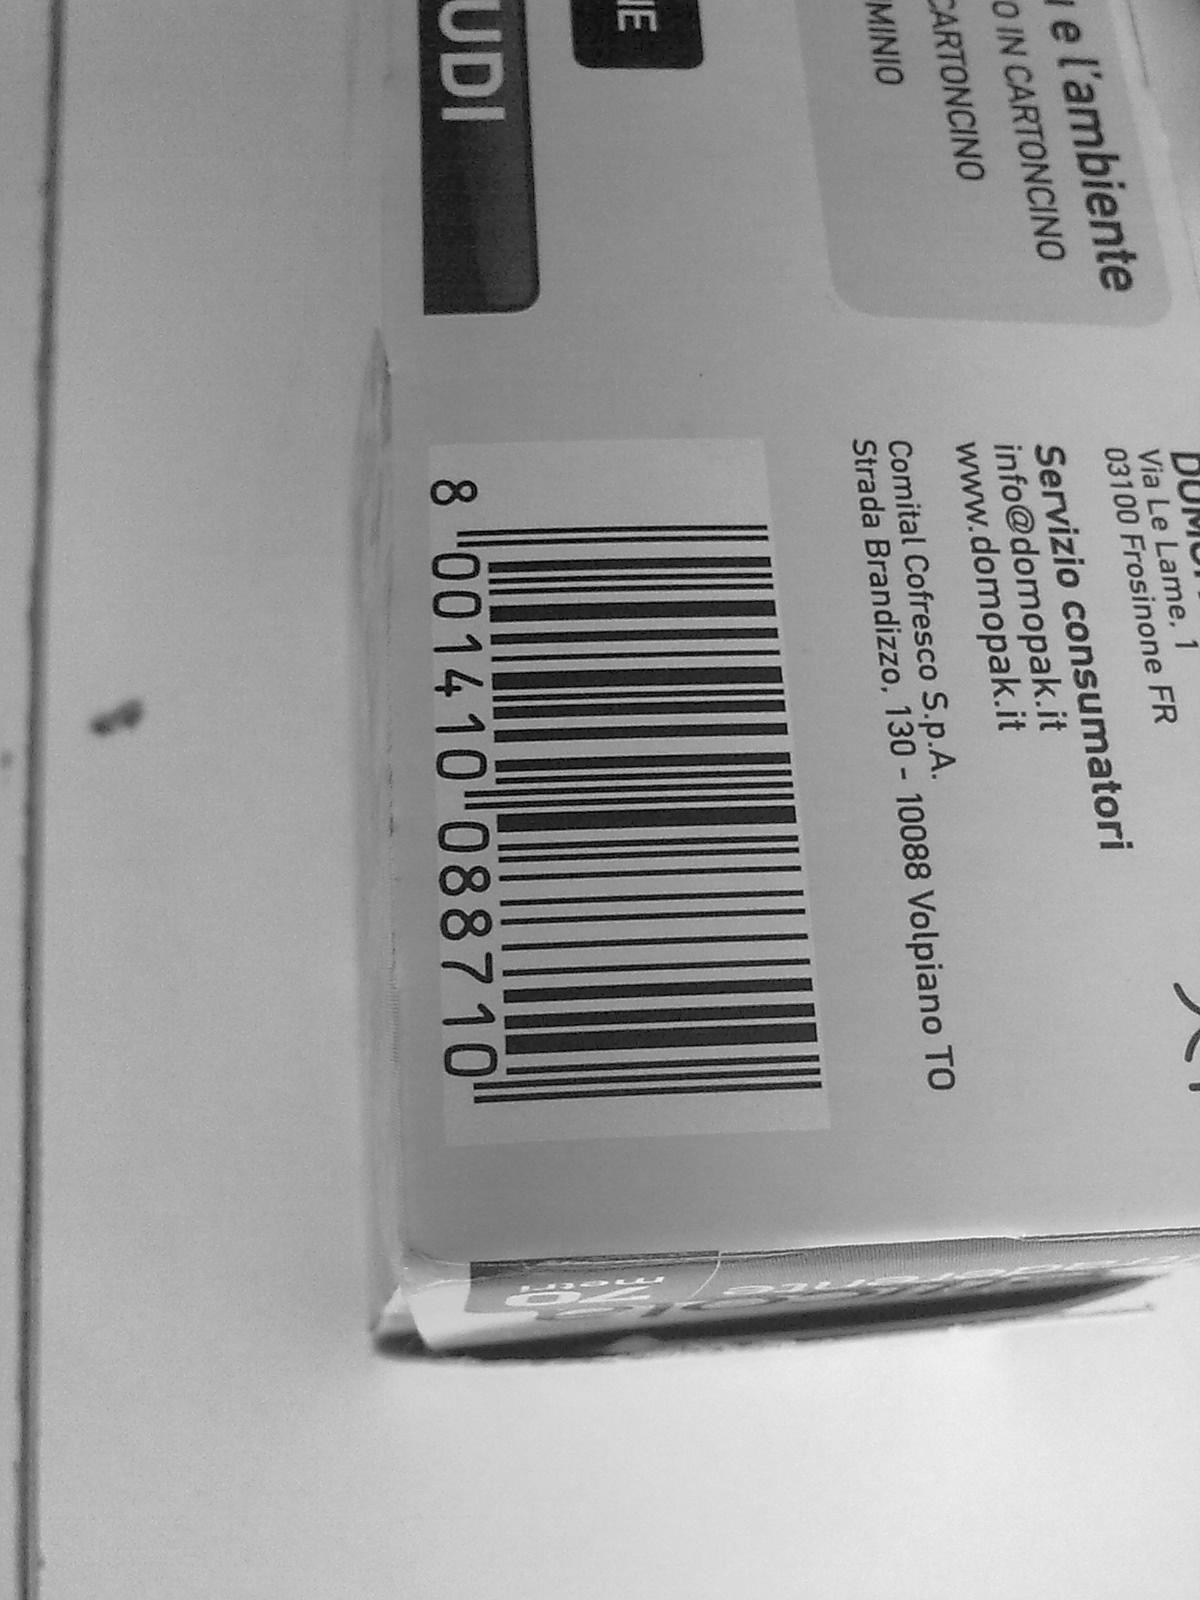Barcode: (368, 421, 831, 1099)
